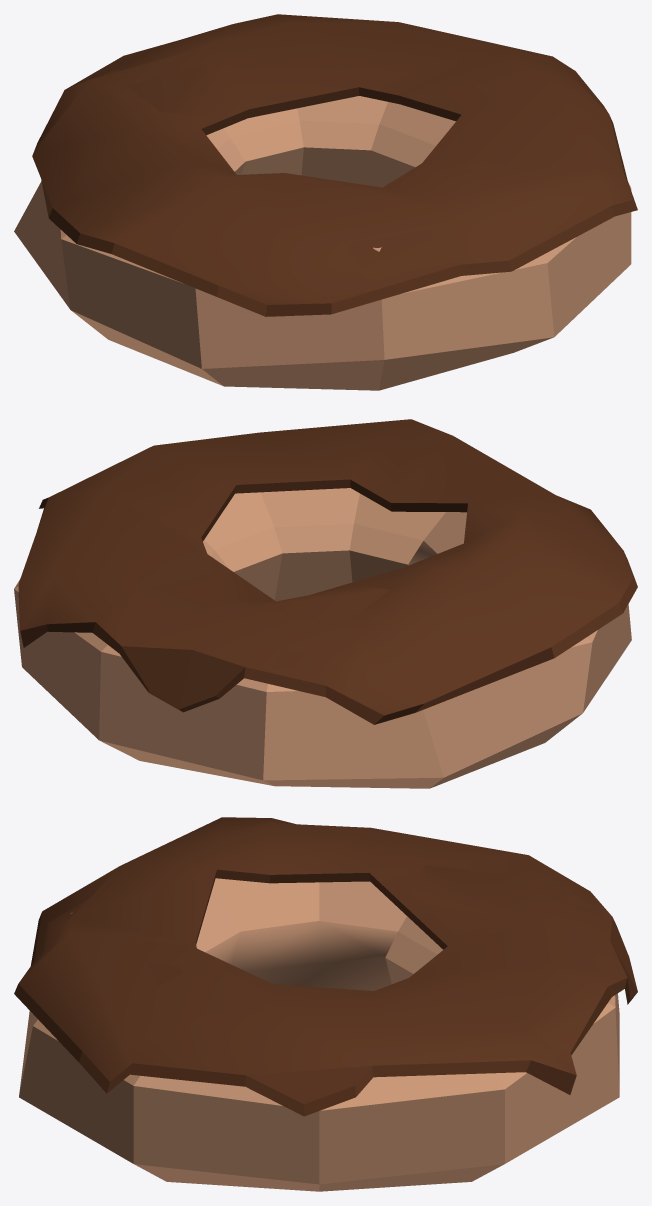
File: powerup3.fbx
3 renders of one model, top to bottom at view 1: azimuth 30°, elevation 25°; view 2: azimuth 150°, elevation 25°; view 3: azimuth 270°, elevation 25°, orthographic. The views are drawn at different scales.
Visible parts, largest first — view 1: pPlane4; view 2: pPlane4; view 3: pPlane4.
Part boxes in pixels (box(x1,y1,x2,y2)): pPlane4: box(14, 14, 637, 390); pPlane4: box(14, 419, 637, 788); pPlane4: box(14, 817, 637, 1191).
Size of the model in its own units: 0.4791 by 0.1533 by 0.4595.
